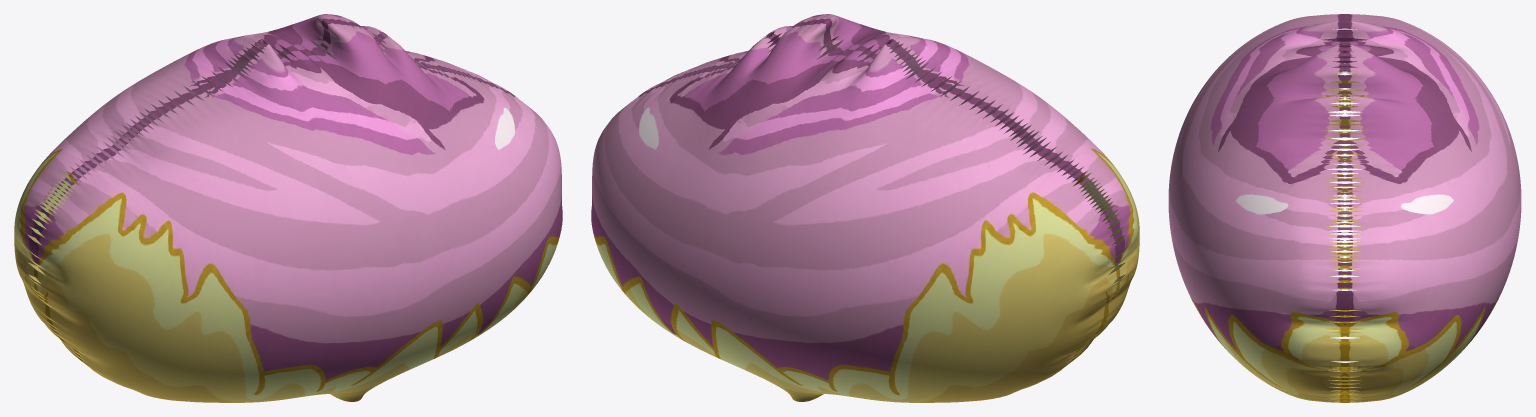
Rendered from ridged_clam.glb.
3 renders of one model, left to right at view 1: azimuth 30°, elevation 25°; view 2: azimuth 150°, elevation 25°; view 3: azimuth 270°, elevation 25°, orthographic. The views are drawn at different scales.
Visible parts, largest first — view 1: ridged_clam; view 2: ridged_clam; view 3: ridged_clam.
Part boxes in pixels (x1,y1,x2,y2): ridged_clam: (14, 14, 562, 402); ridged_clam: (591, 14, 1139, 402); ridged_clam: (1168, 14, 1521, 402).
Bounding box in the file's own units: 0.9889 × 0.6398 × 0.637.
Materials: 1 (1 with a texture image).
